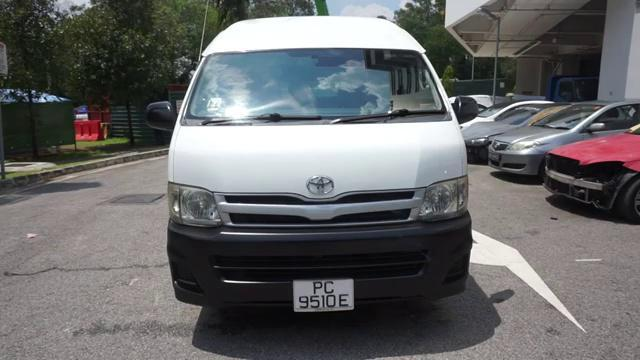van: (162, 15, 477, 325)
